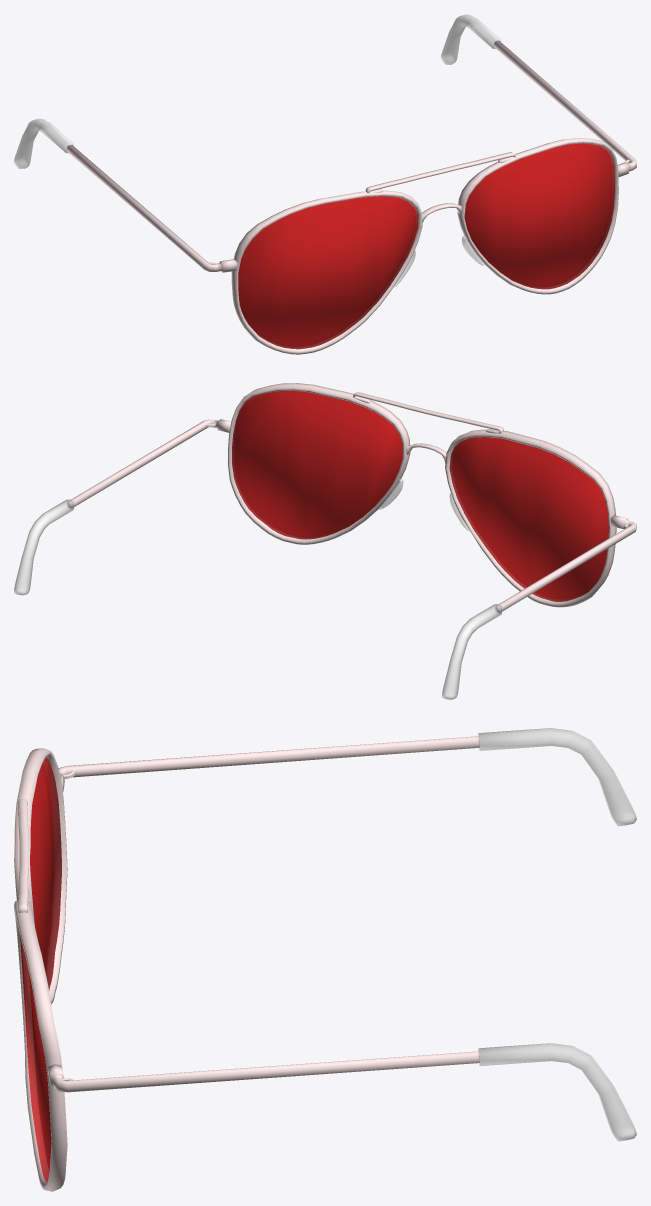
The picture shows the model from 3 angles, top to bottom: view 1: azimuth 30°, elevation 25°; view 2: azimuth 150°, elevation 25°; view 3: azimuth 270°, elevation 25°; orthographic projection. The views are drawn at different scales.
Parts seen in each view (by area): view 1: Plane; view 2: Plane; view 3: Plane.
Part boxes in pixels (x1,y1,x2,y2): Plane: (14, 14, 636, 354); Plane: (14, 383, 636, 699); Plane: (14, 728, 636, 1191).
Bounding box in the file's own units: 6.29 × 2.16 × 5.12.
